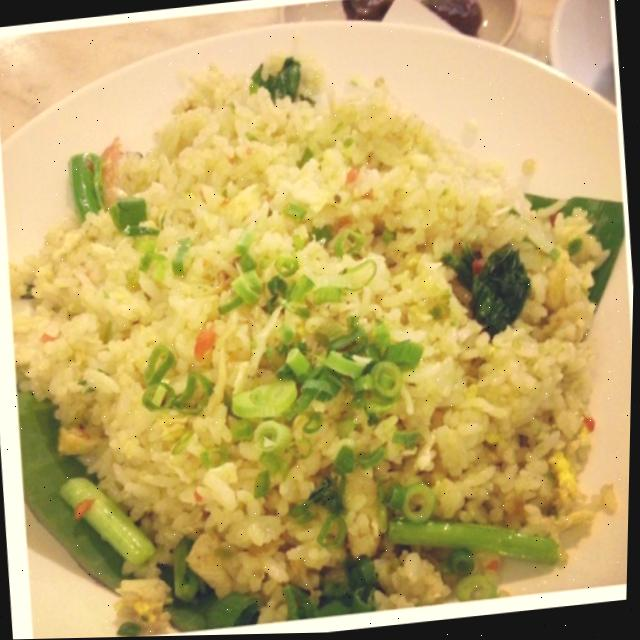米饭主食: (0, 8, 640, 639)
